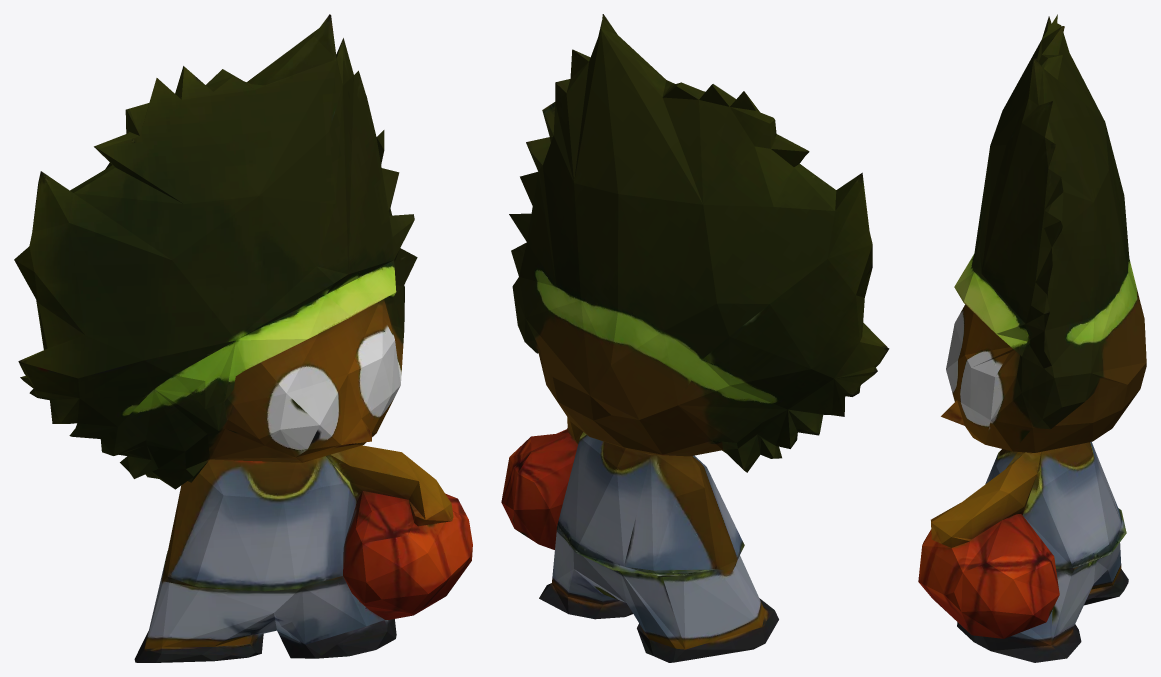
The model's file is swish.glb.
3 views of the same model, side by side, from view 1: azimuth 30°, elevation 25°; view 2: azimuth 150°, elevation 25°; view 3: azimuth 270°, elevation 25° (orthographic). The views are drawn at different scales.
Visible parts, largest first — view 1: geometry_0; view 2: geometry_0; view 3: geometry_0.
Part boxes in pixels (bbox=[...]): geometry_0: bbox=[14, 14, 472, 662]; geometry_0: bbox=[501, 14, 889, 662]; geometry_0: bbox=[918, 14, 1146, 662].
Bounding box in the file's own units: 0.71 × 0.9943 × 0.3541.
Materials: 1 (1 with a texture image).
